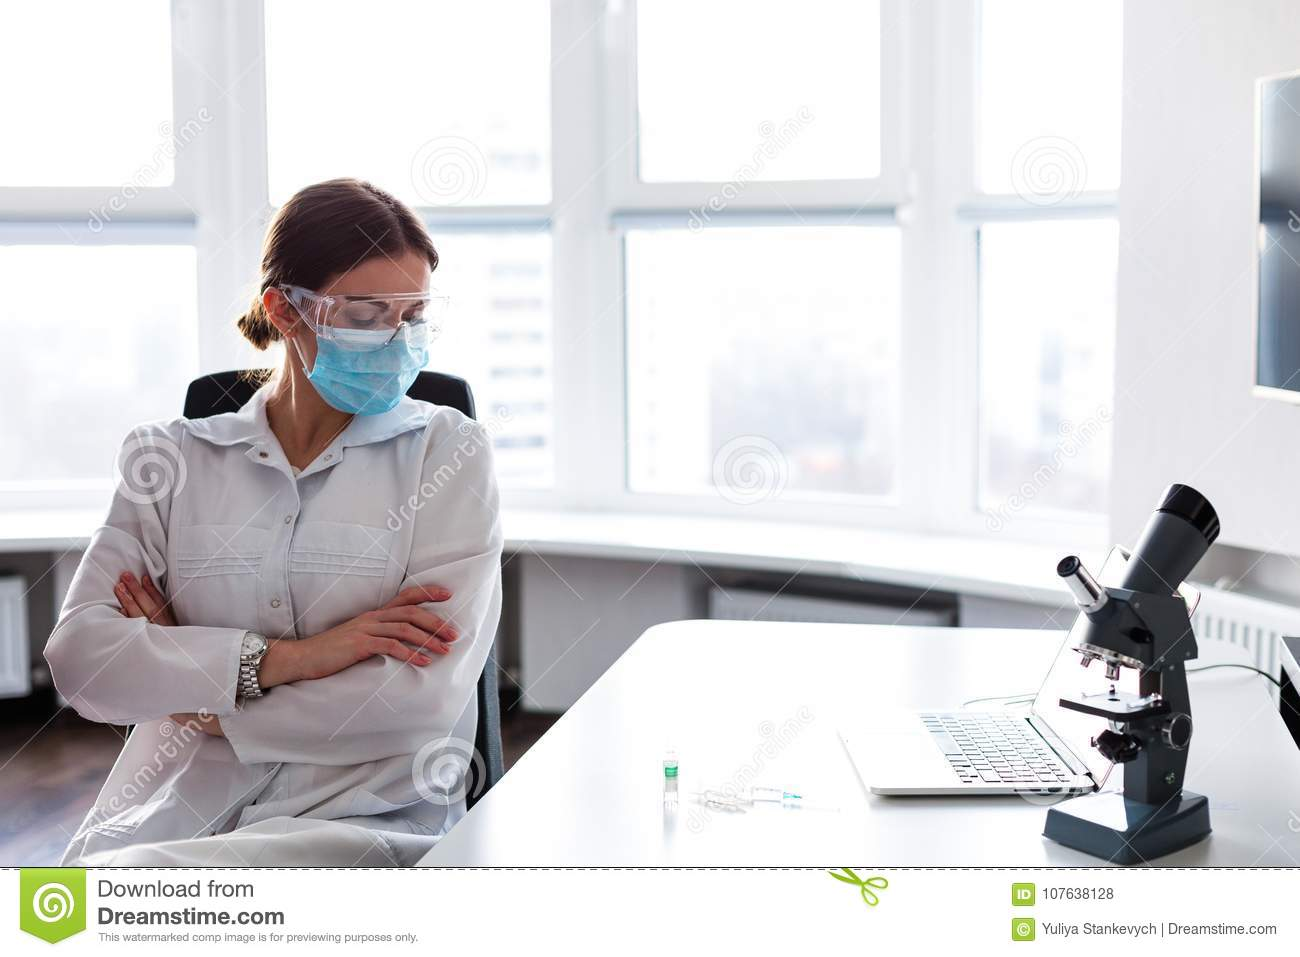mask: (316, 324, 436, 424)
